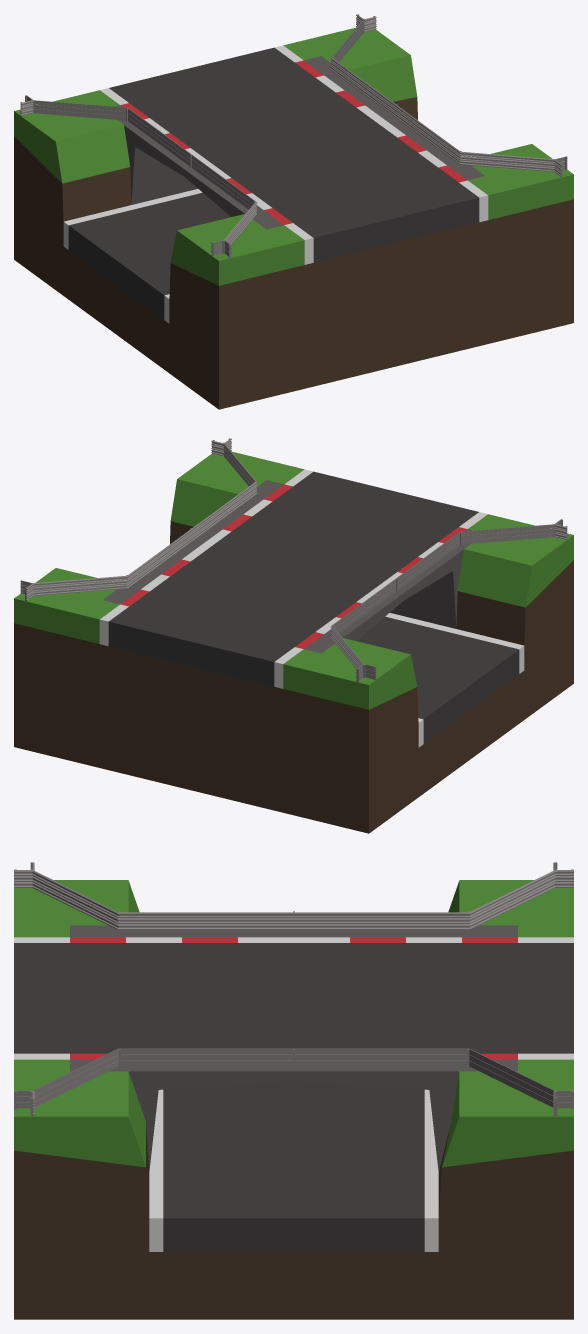
The model's file is tiles_tile-race-track-bridge.fbx.
The picture shows the model from 3 angles, top to bottom: view 1: azimuth 30°, elevation 25°; view 2: azimuth 150°, elevation 25°; view 3: azimuth 270°, elevation 25°; orthographic projection. The views are drawn at different scales.
Visible parts, largest first — view 1: tiles_tile_race_track_bridge; view 2: tiles_tile_race_track_bridge; view 3: tiles_tile_race_track_bridge.
Part boxes in pixels (x1,y1,x2,y2): tiles_tile_race_track_bridge: [14, 14, 573, 409]; tiles_tile_race_track_bridge: [14, 438, 573, 833]; tiles_tile_race_track_bridge: [14, 862, 573, 1319].
Size of the model in its own units: 200 by 87.14 by 200.
